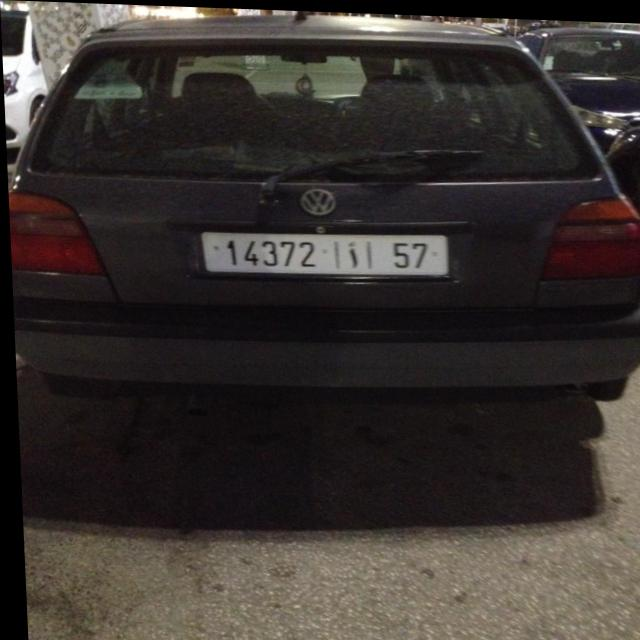License-Plate: (200, 231, 447, 274)
